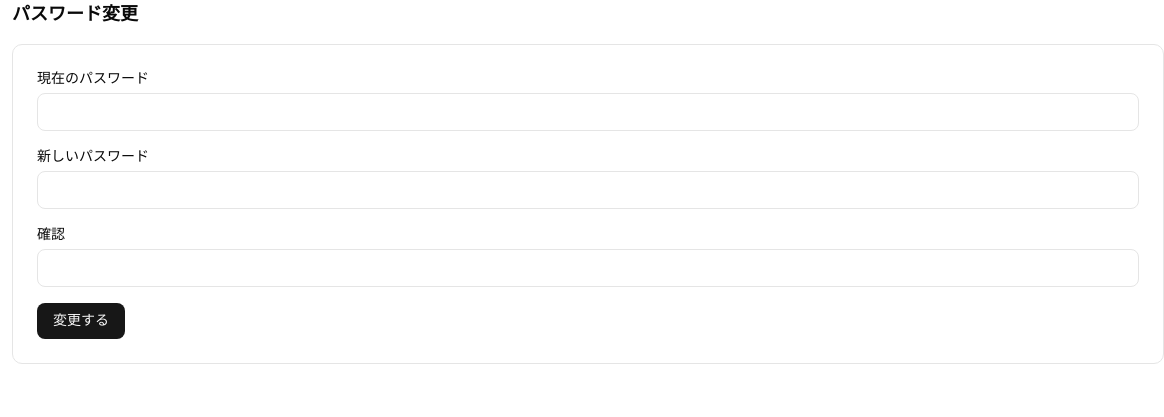
PasswordChangeForm › 空欄の場合にバリデーションエラーを表示する
What coordinates should you click on to do the following:
click the button "変更する"
I would click on:
 (81, 321)
Its box is x1=37 y1=303 x2=125 y2=339.
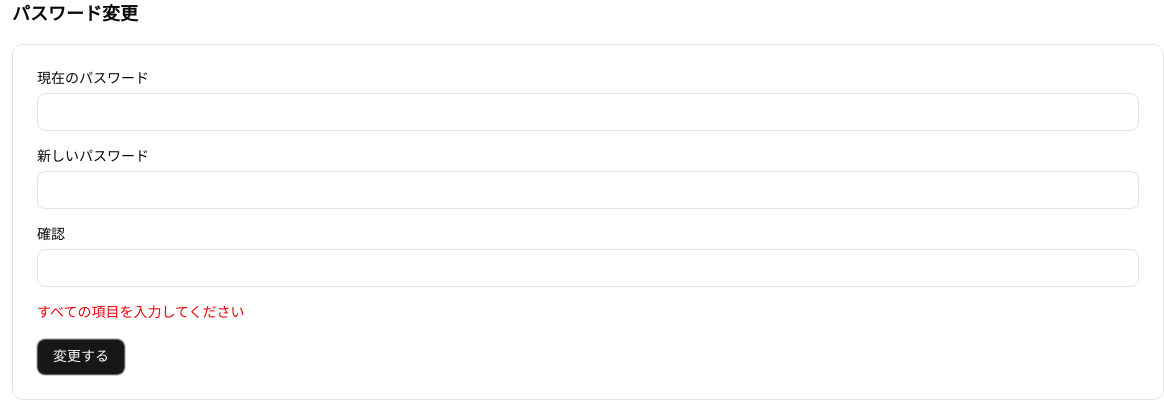
Expected: the message reads "すべての項目を入力してください", x1=37 y1=305 x2=245 y2=320
